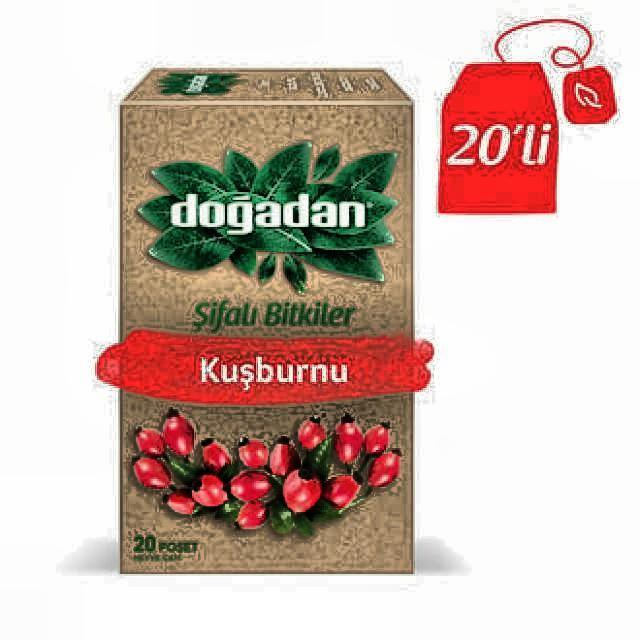cardboard: (94, 67, 433, 578)
